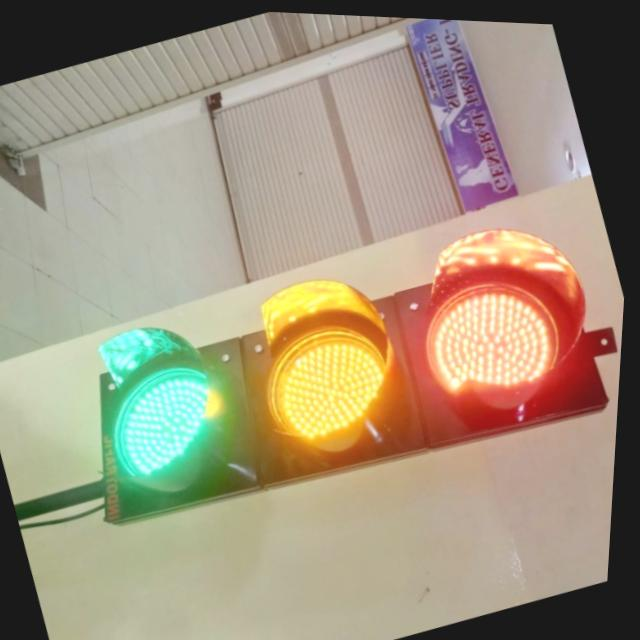Hijau: (99, 352, 244, 487)
Kuning: (250, 302, 418, 451)
Merah: (410, 259, 574, 406)
